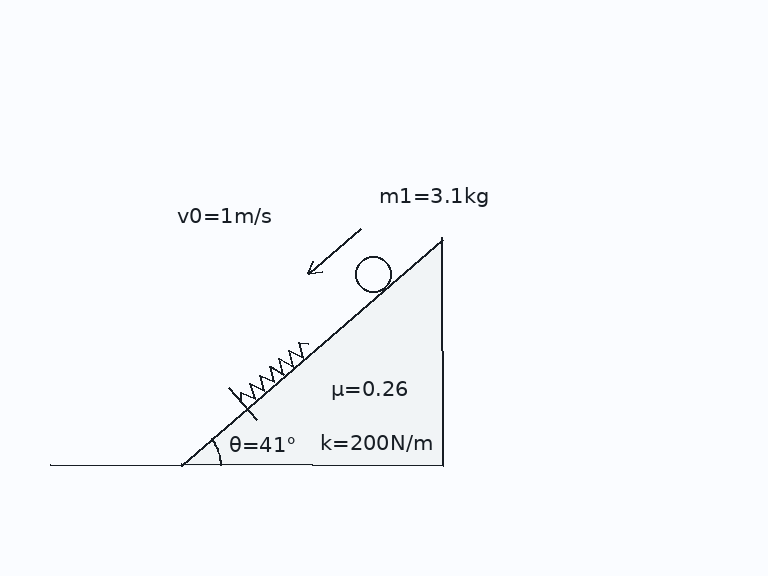ball: (353, 254, 393, 294)
ramp: (179, 236, 444, 467)
spring: (238, 339, 310, 403)
